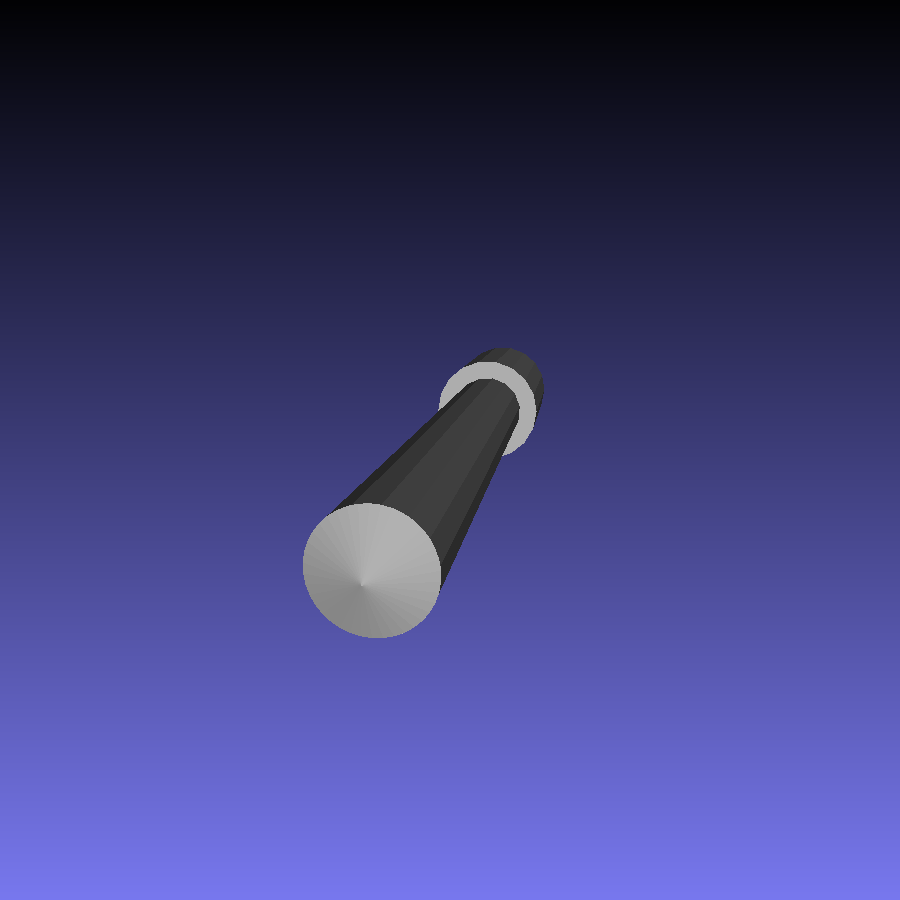cargo_g: (303, 346, 548, 640)
